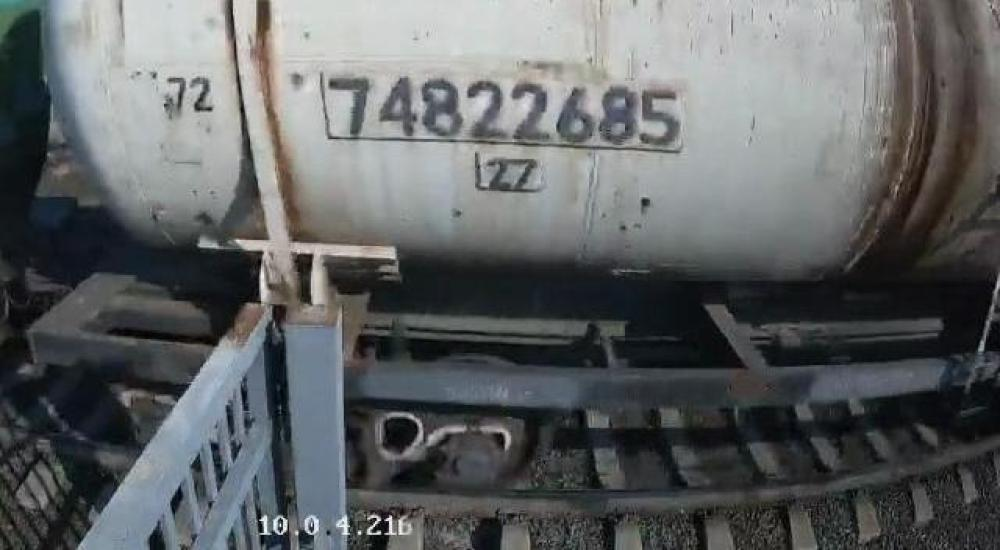Wagon-number: (325, 70, 682, 151)
